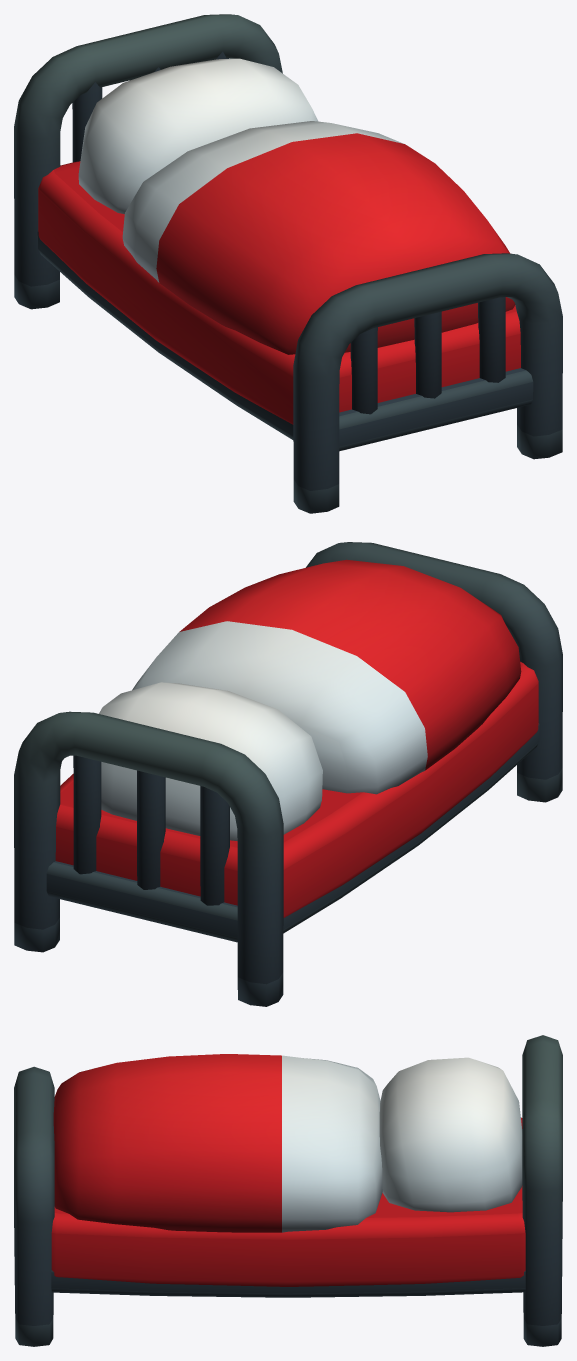
The model's file is bed2_LOD_setup.fbx.
3 views of the same model, one above another, from view 1: azimuth 30°, elevation 25°; view 2: azimuth 150°, elevation 25°; view 3: azimuth 270°, elevation 25° (orthographic). The views are drawn at different scales.
Parts seen in each view (by area): view 1: bed2_LOD0; view 2: bed2_LOD0; view 3: bed2_LOD0.
Part boxes in pixels (left/top/right/bottom): bed2_LOD0: left=14, top=14, right=562, bottom=513; bed2_LOD0: left=14, top=542, right=562, bottom=1006; bed2_LOD0: left=14, top=1035, right=562, bottom=1346.
Size of what is drawn, in the model's own units: 106 by 90.49 by 205.
